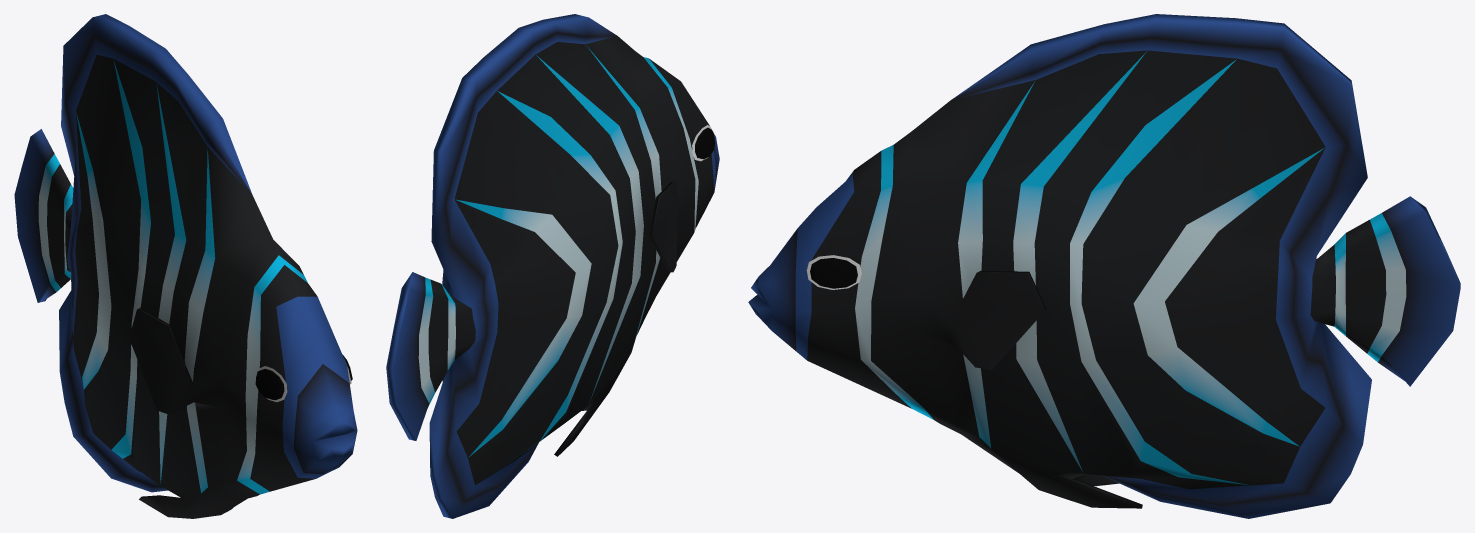
The model's file is underwater-fish-angelfish_v6.glb.
The picture shows the model from 3 angles, left to right: view 1: azimuth 30°, elevation 25°; view 2: azimuth 150°, elevation 25°; view 3: azimuth 270°, elevation 25°; orthographic projection. The views are drawn at different scales.
Parts seen in each view (by area): view 1: Angelfish_v6; view 2: Angelfish_v6; view 3: Angelfish_v6.
Part boxes in pixels (left/top/right/bottom): Angelfish_v6: left=14, top=14, right=357, bottom=518; Angelfish_v6: left=386, top=14, right=719, bottom=518; Angelfish_v6: left=748, top=14, right=1460, bottom=518.
Bounding box in the file's own units: 0.0568 × 0.1543 × 0.2.
